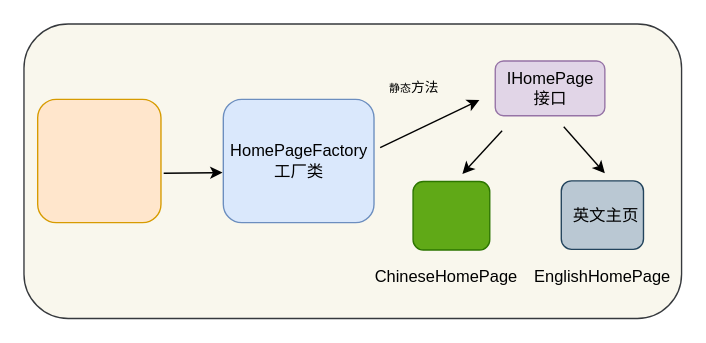
The diagram is 706 pixels wide and 343 high, and some of its shapes have lost their labels. The shapes that lost their labels are listed below. From the top down, each one's box as (x1, y1, x2, y2) in pixels, then its label:
(36, 98, 161, 223): HomePage Selector 用户类
(412, 180, 490, 250): 中文主页
